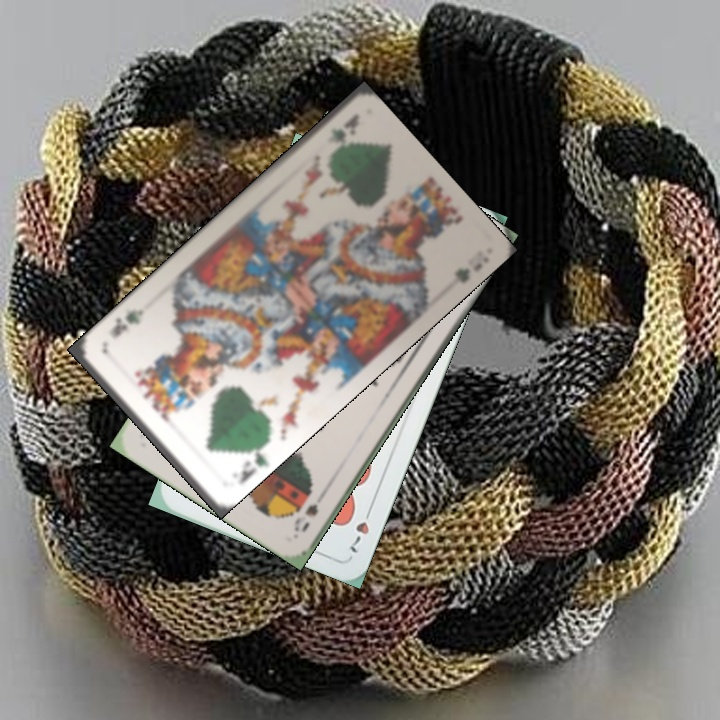GK: (234, 440, 270, 488), (326, 110, 362, 144)
H7: (346, 501, 376, 556)
SO: (289, 499, 321, 535)
